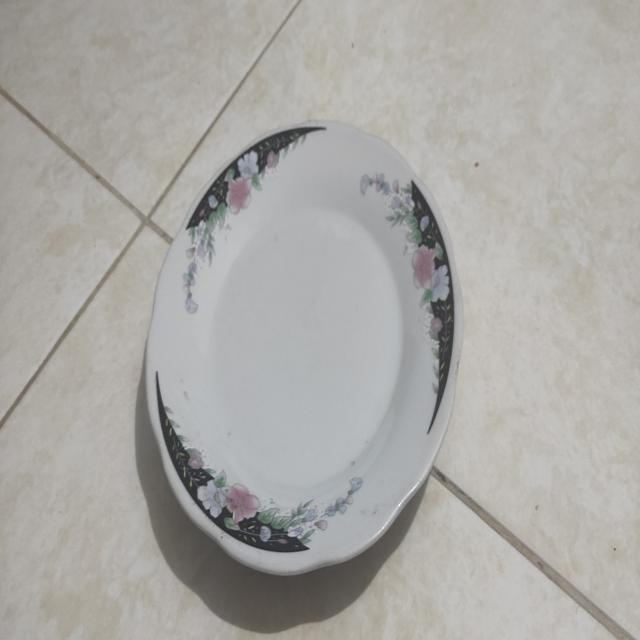non-organic waste: (134, 104, 472, 590)
